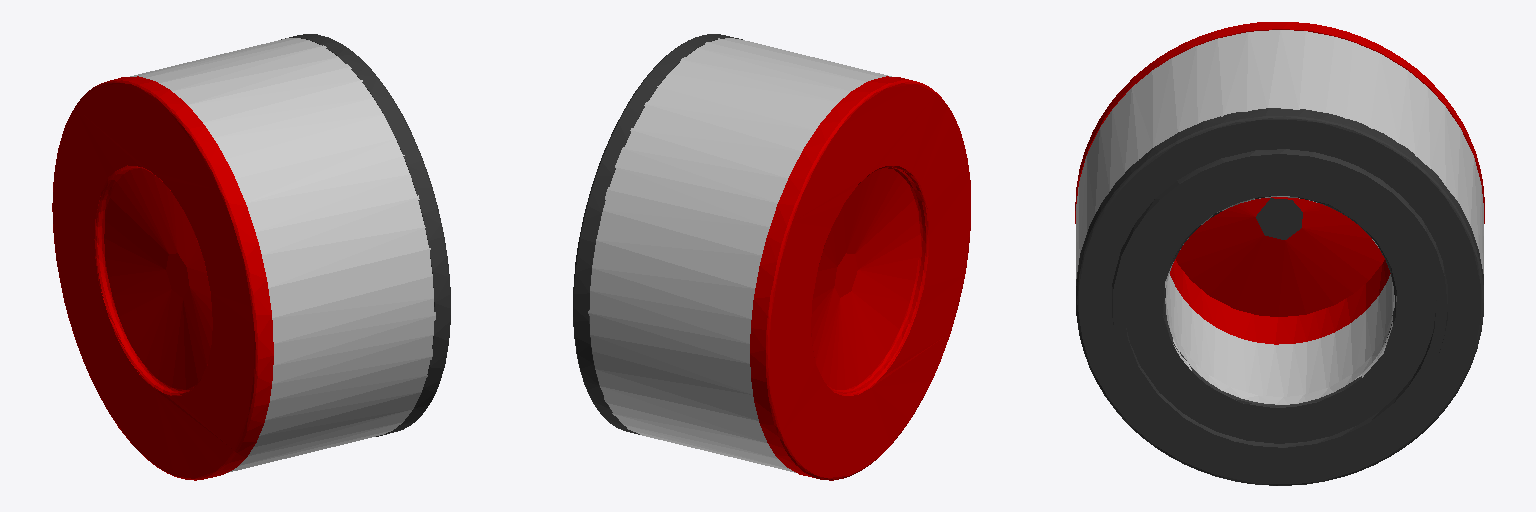
The model's file is filtro.obj.
The picture shows the model from 3 angles: view 1: azimuth 30°, elevation 25°; view 2: azimuth 150°, elevation 25°; view 3: azimuth 270°, elevation 25°; orthographic projection.
Parts seen in each view (by area): view 1: G051696_VTLF_2.250_0-79.1VSVRSV_SCM_EUII_IE3_WAT_v1.019; view 2: G051696_VTLF_2.250_0-79.1VSVRSV_SCM_EUII_IE3_WAT_v1.019; view 3: G051696_VTLF_2.250_0-79.1VSVRSV_SCM_EUII_IE3_WAT_v1.019.
Boxes of the visible parts, box(x1,y1,x2,y2) form: G051696_VTLF_2.250_0-79.1VSVRSV_SCM_EUII_IE3_WAT_v1.019: box(52, 34, 450, 480); G051696_VTLF_2.250_0-79.1VSVRSV_SCM_EUII_IE3_WAT_v1.019: box(573, 34, 970, 480); G051696_VTLF_2.250_0-79.1VSVRSV_SCM_EUII_IE3_WAT_v1.019: box(1075, 22, 1484, 485).
Size of the model in its own units: 0.127 by 0.2203 by 0.2204.